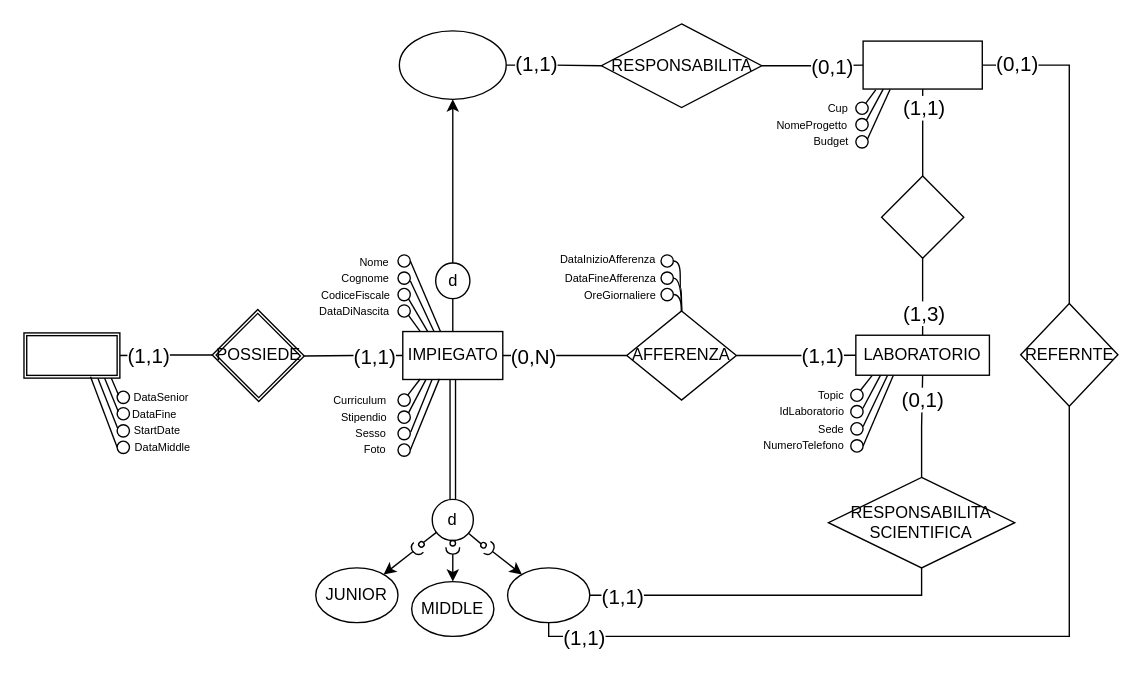
This 1143x673 diagram has some shape labels left out. Here are the shapes that lost their labels. From the top down, the centre of each, then its label:
At [452,64]: "DIRIGENTE".
At [922,64]: "PROGETTO".
At [922,216]: "SVOLGE".
At [71,355]: "STORICO".
At [548,594]: "SENIOR".
